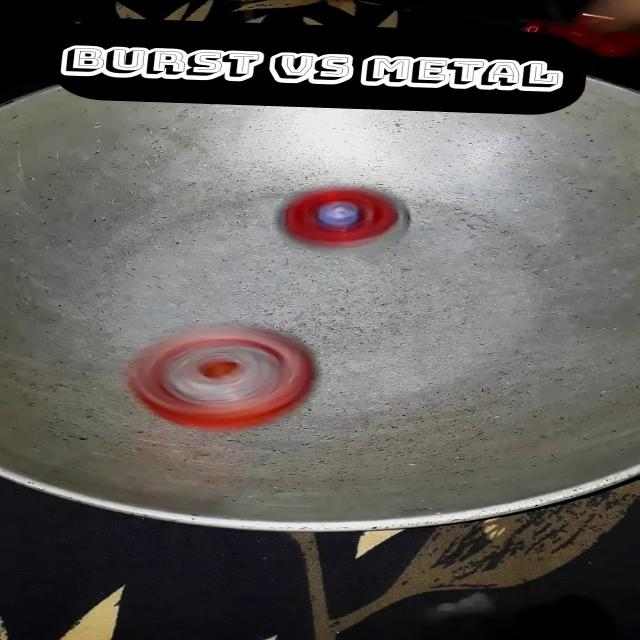beyblade: (120, 318, 332, 442), (270, 179, 416, 266)
